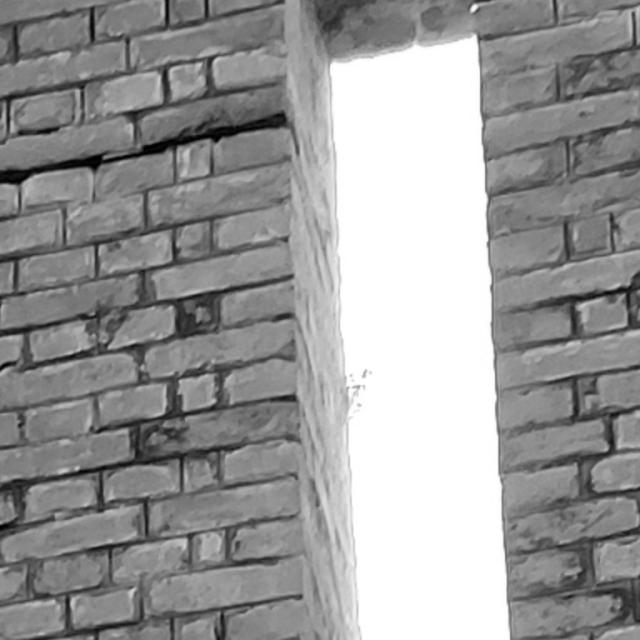crack: (1, 112, 300, 186)
